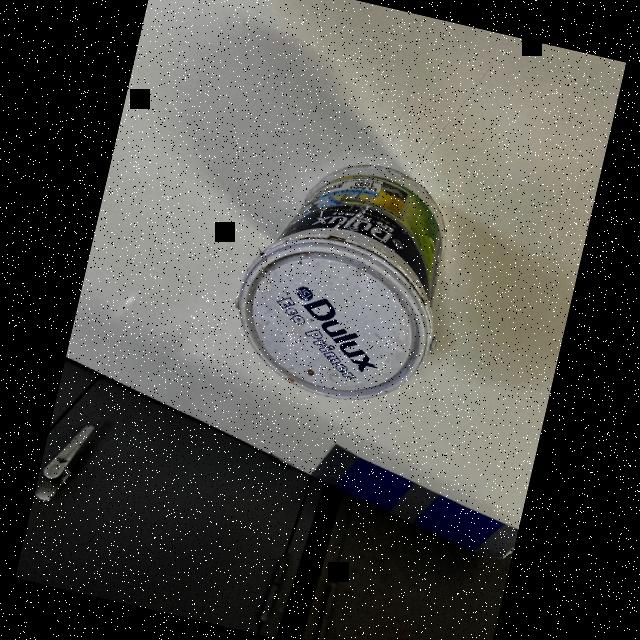paint_bucket: (210, 140, 483, 420)
